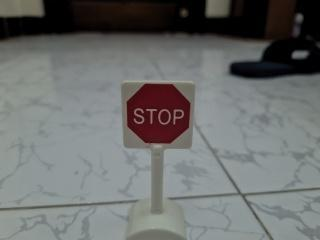stop: (114, 76, 200, 156)
